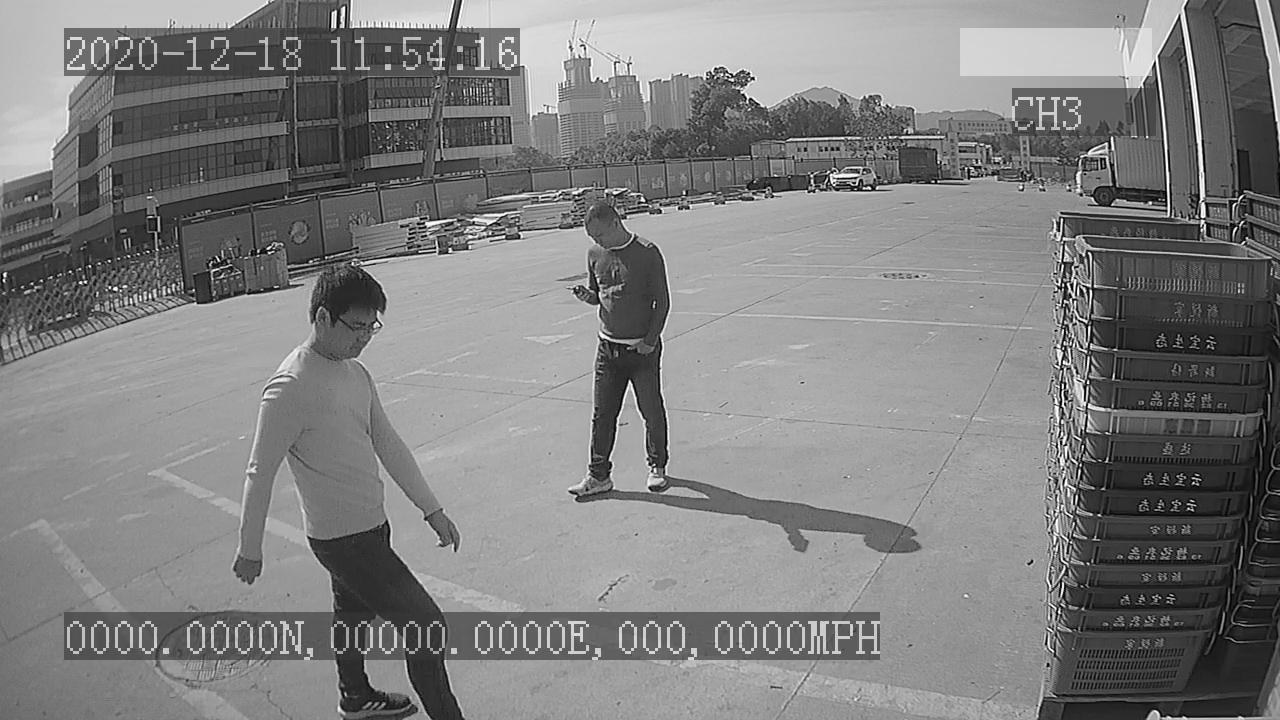person: (558, 197, 679, 502)
